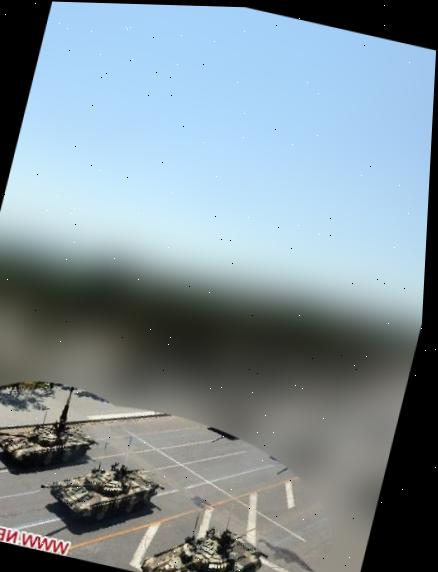tank: (29, 444, 165, 537), (0, 402, 100, 486), (138, 509, 268, 572)
